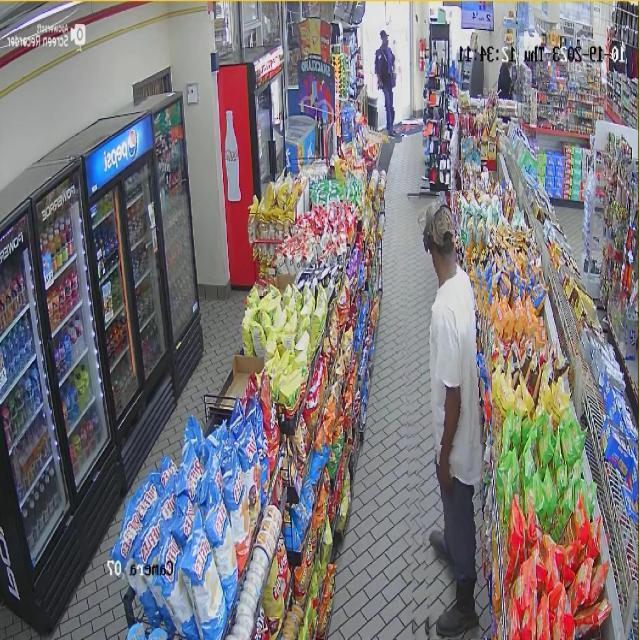Normal: (400, 191, 492, 640), (368, 22, 402, 143)
